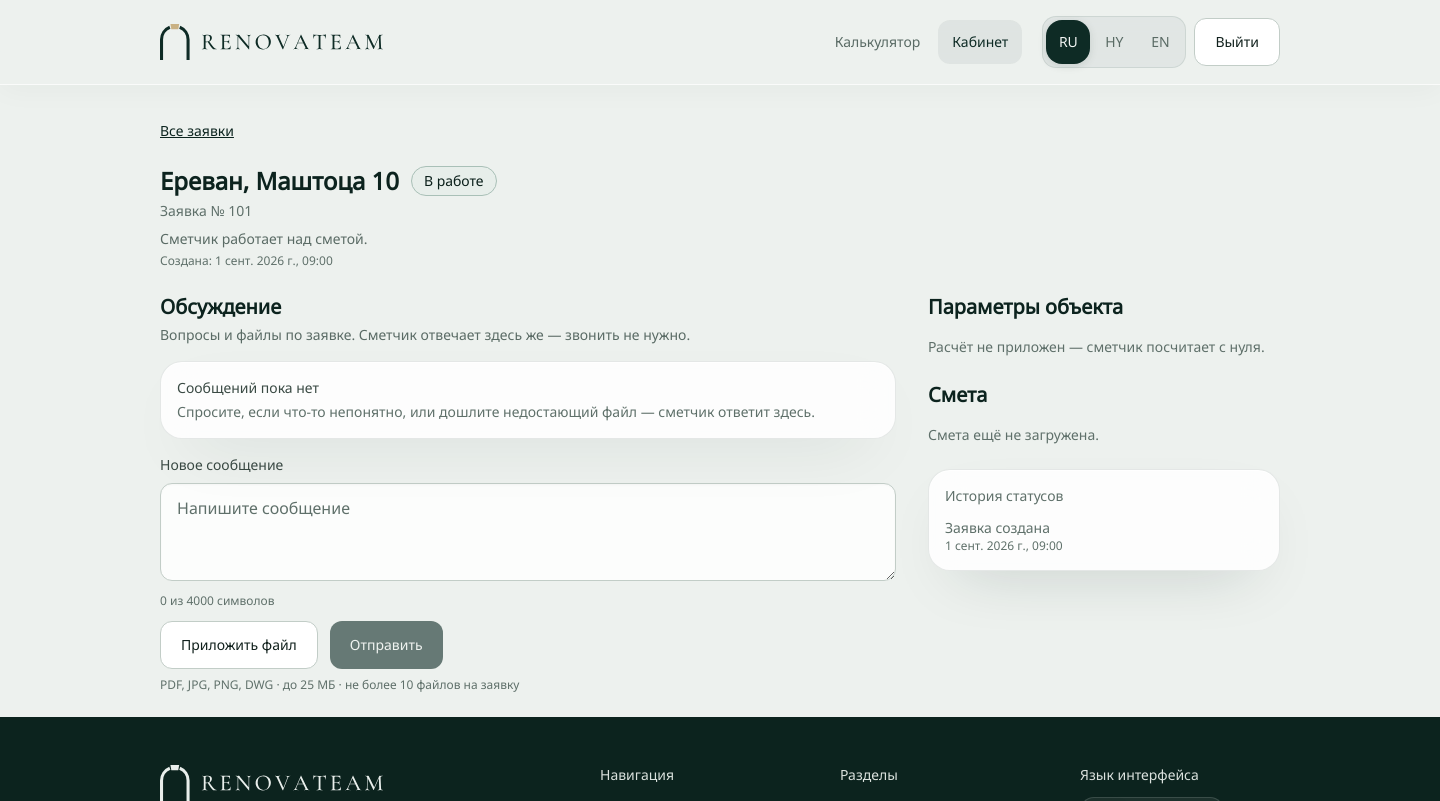
Test case: лента обсуждения в кабинете › при неудачной отправке текст остаётся в поле
This screenshot has width=1440, height=801.
Type "Важный вопрос" into the text box labelled "Новое сообщение" at (528, 532), box [160,483,896,581]
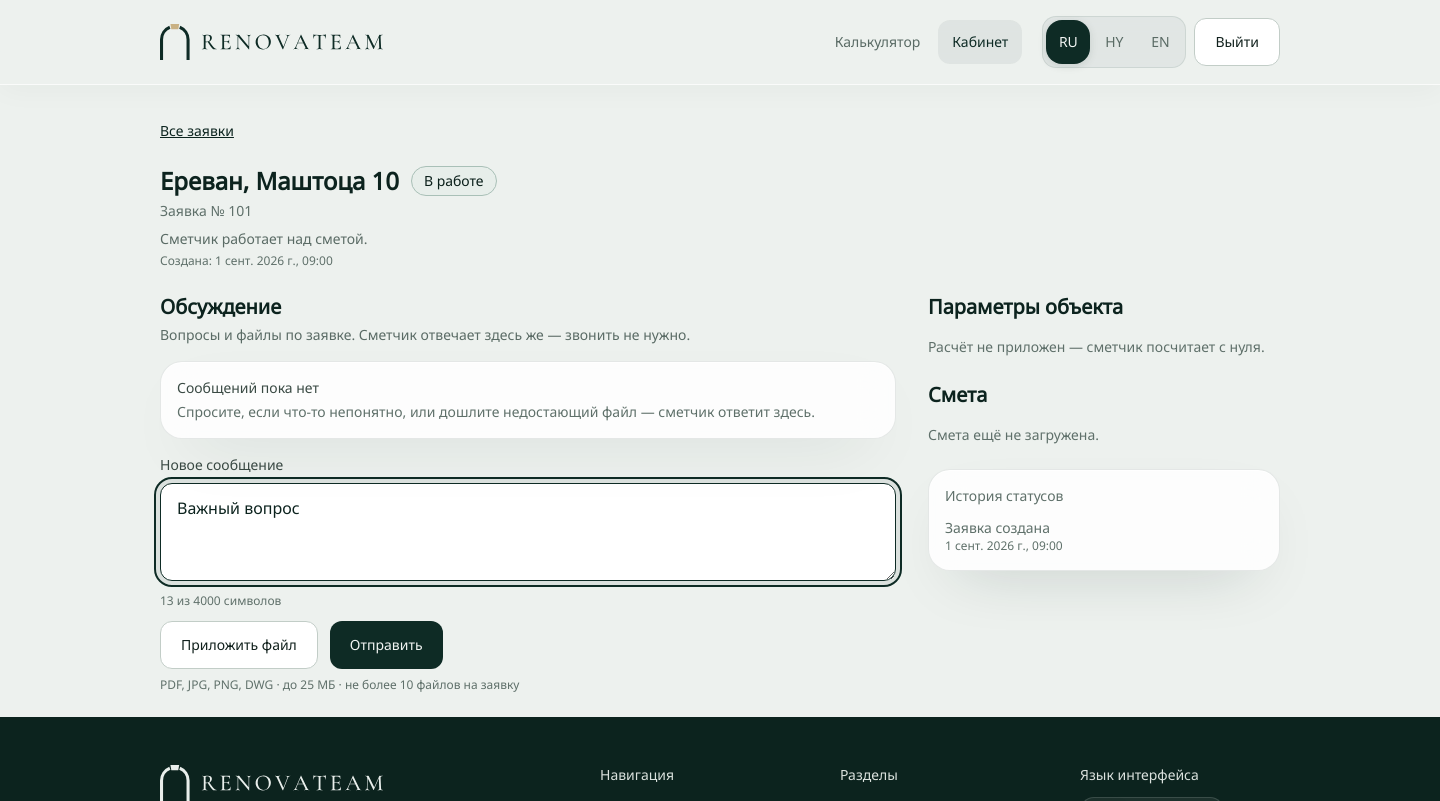
Click the button "Отправить" at (386, 645), box [330,621,442,669]
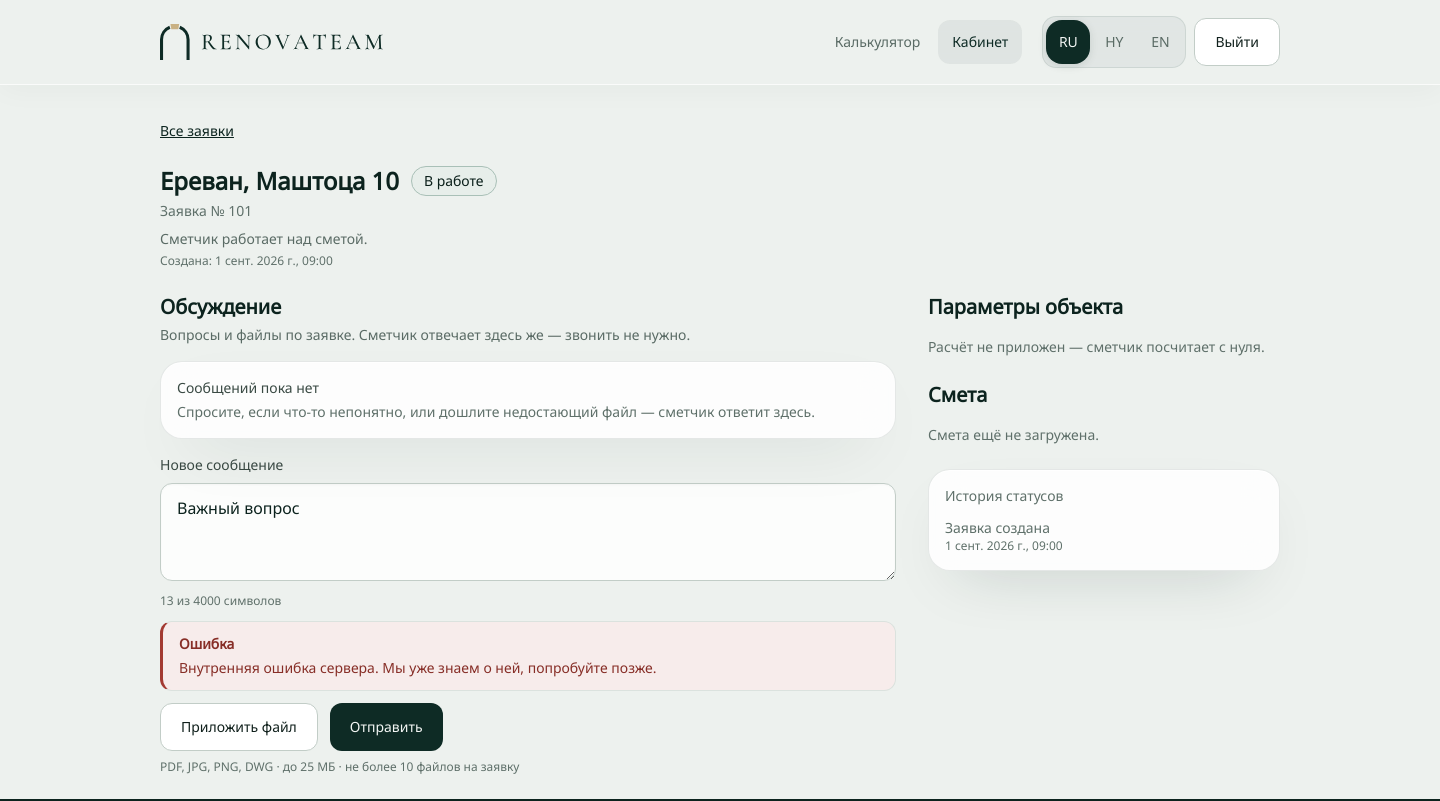
expect the text "Внутренняя ошибка сервера" is shown: met, box [179,658,656,677]
